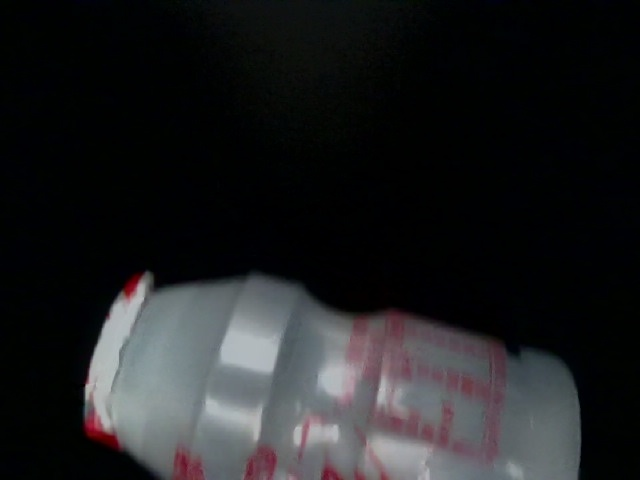CYLJ: (42, 1, 378, 240)
